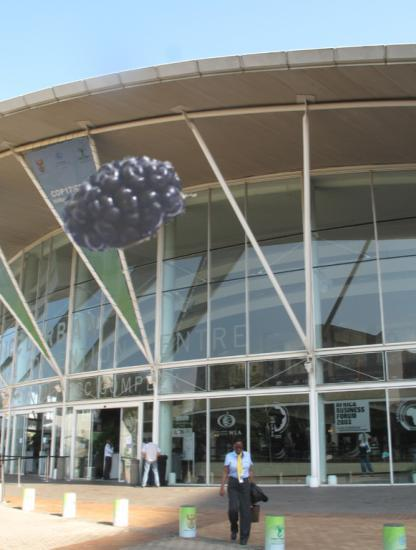Mulberry: (48, 120, 192, 264)
